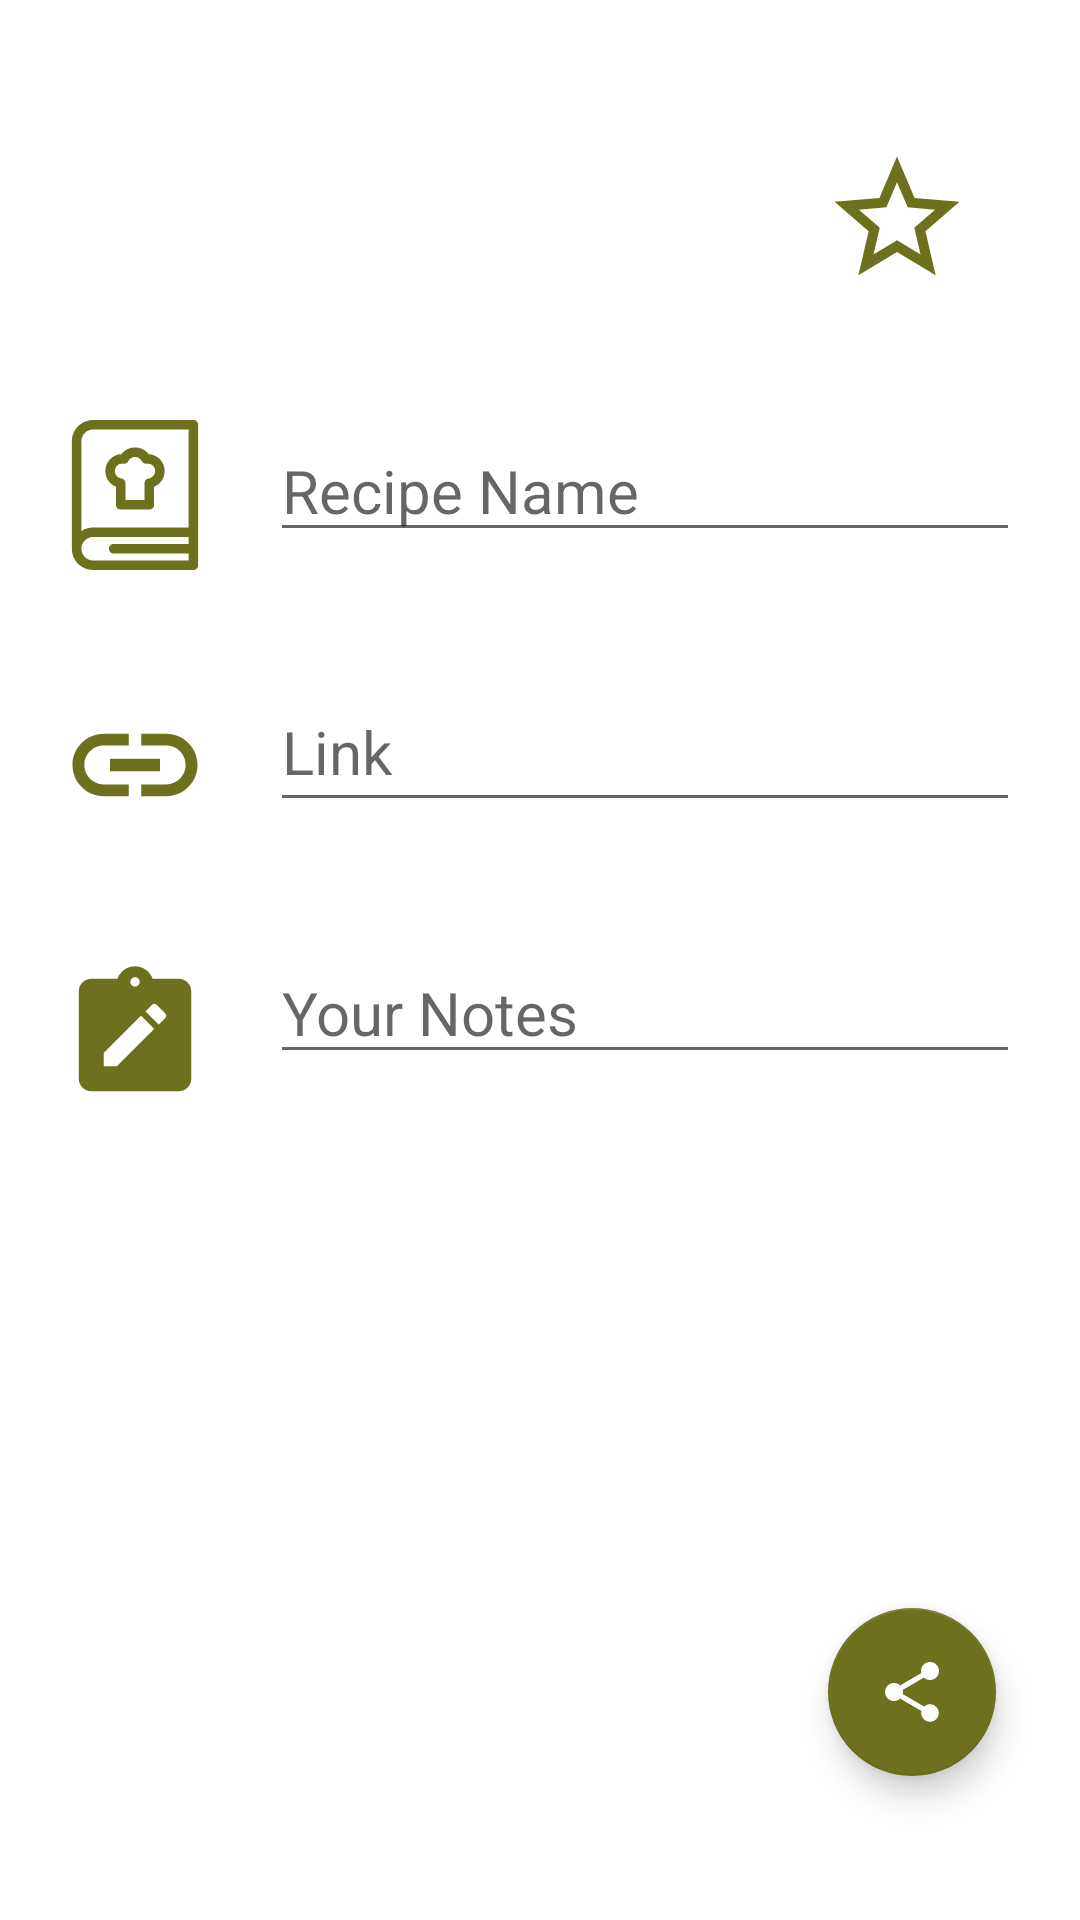

Icon bounding boxes for this 1080px x 1920px phone screenshot, format (x1, y1, x2, y2):
recipes: (71, 420, 199, 570)
share: (828, 1608, 996, 1776)
star border: (835, 157, 959, 275)
